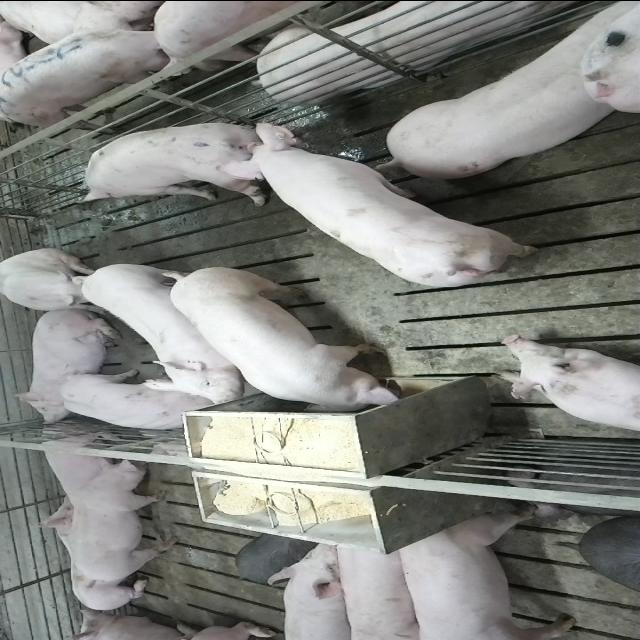Feeding: (162, 270, 408, 420)
Lateral_lying: (251, 0, 606, 100)
Sitting: (1, 248, 109, 312)
Standing: (240, 126, 548, 292), (377, 6, 632, 182), (79, 256, 257, 401), (390, 506, 584, 638), (0, 21, 198, 126), (76, 120, 276, 206), (67, 454, 177, 583), (331, 535, 427, 637), (60, 371, 212, 432), (268, 539, 354, 640)
Sternal_lying: (498, 335, 640, 436), (30, 499, 154, 608), (11, 310, 125, 422), (36, 428, 120, 503)
